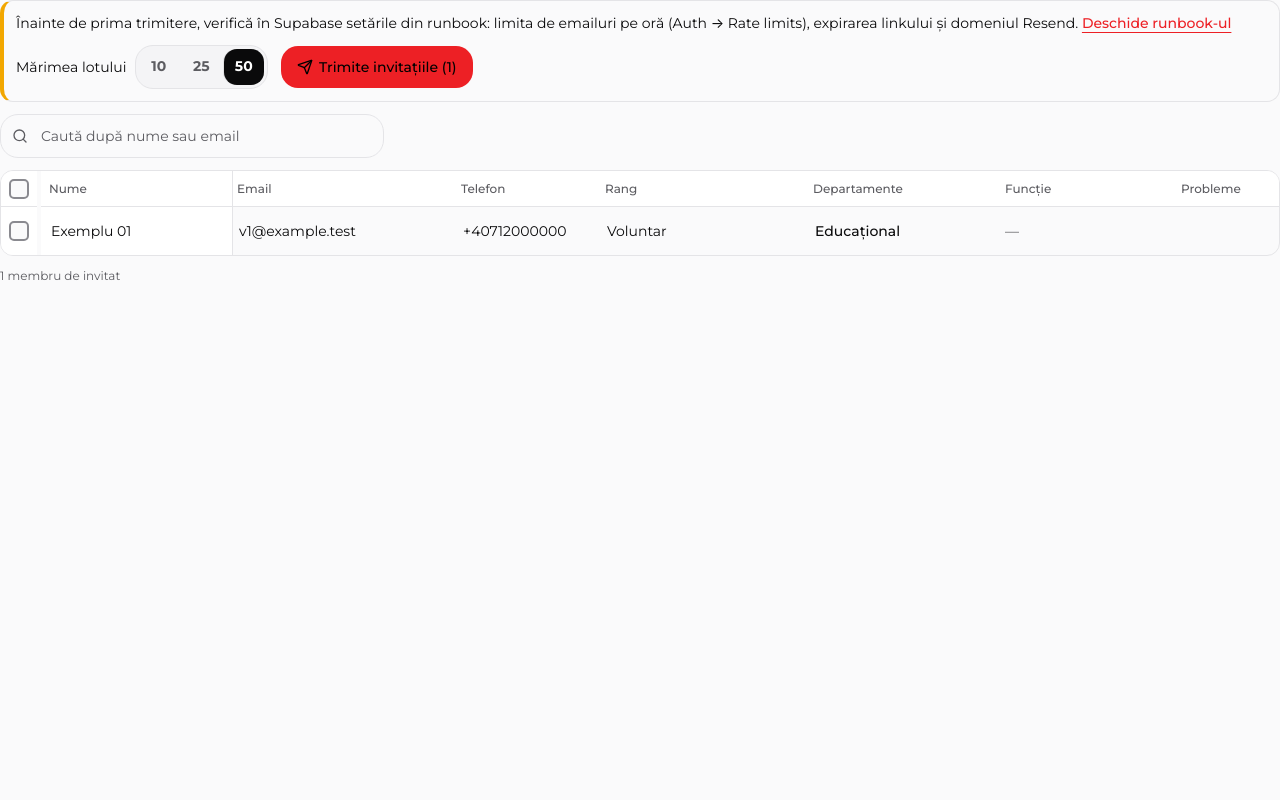
Scenario: inline edits › shows a refused save under the cell, the input still open
Click the button with aria-label "Editează numele pentru Exemplu 01" at x=137, y=231, box [45,211,229,251]
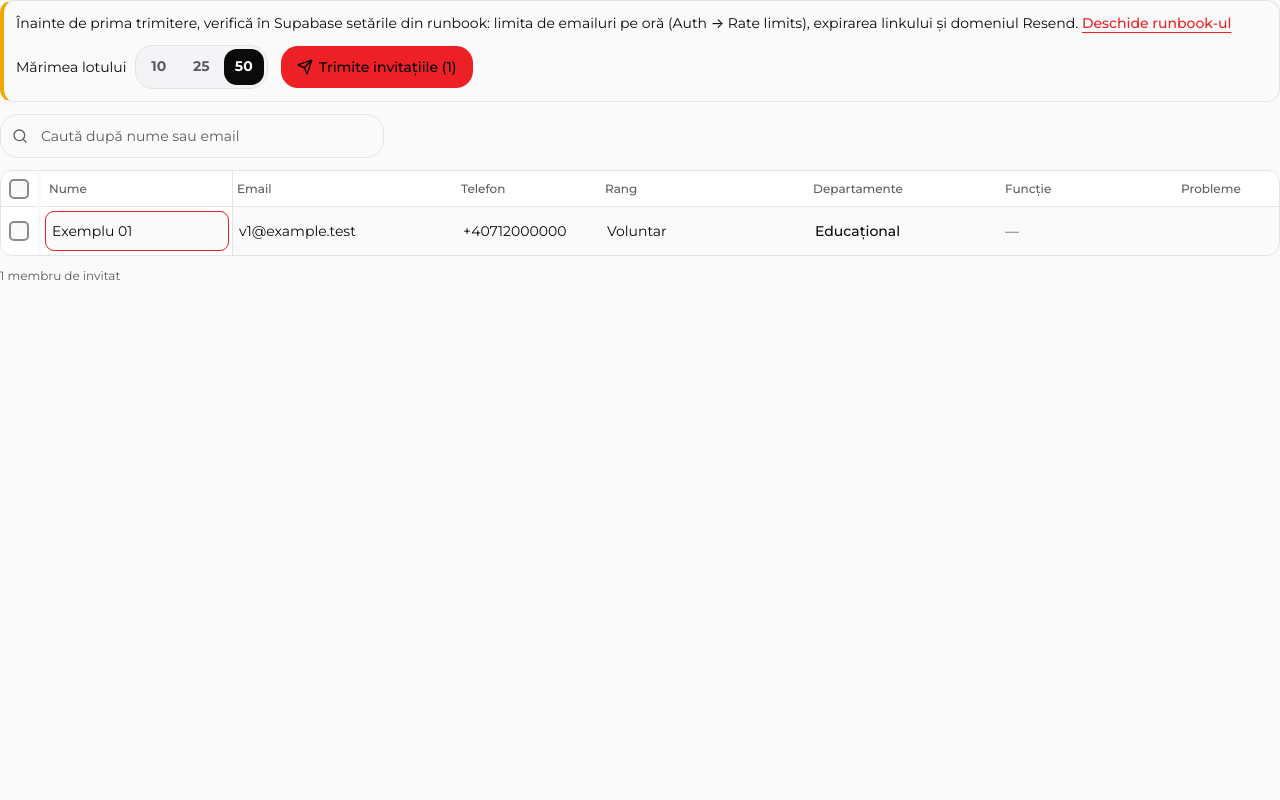
Replace the text in the field named "Numele pentru Exemplu 01" with "Alt Nume" at x=137, y=231, box [45,211,229,251]
Then press Enter
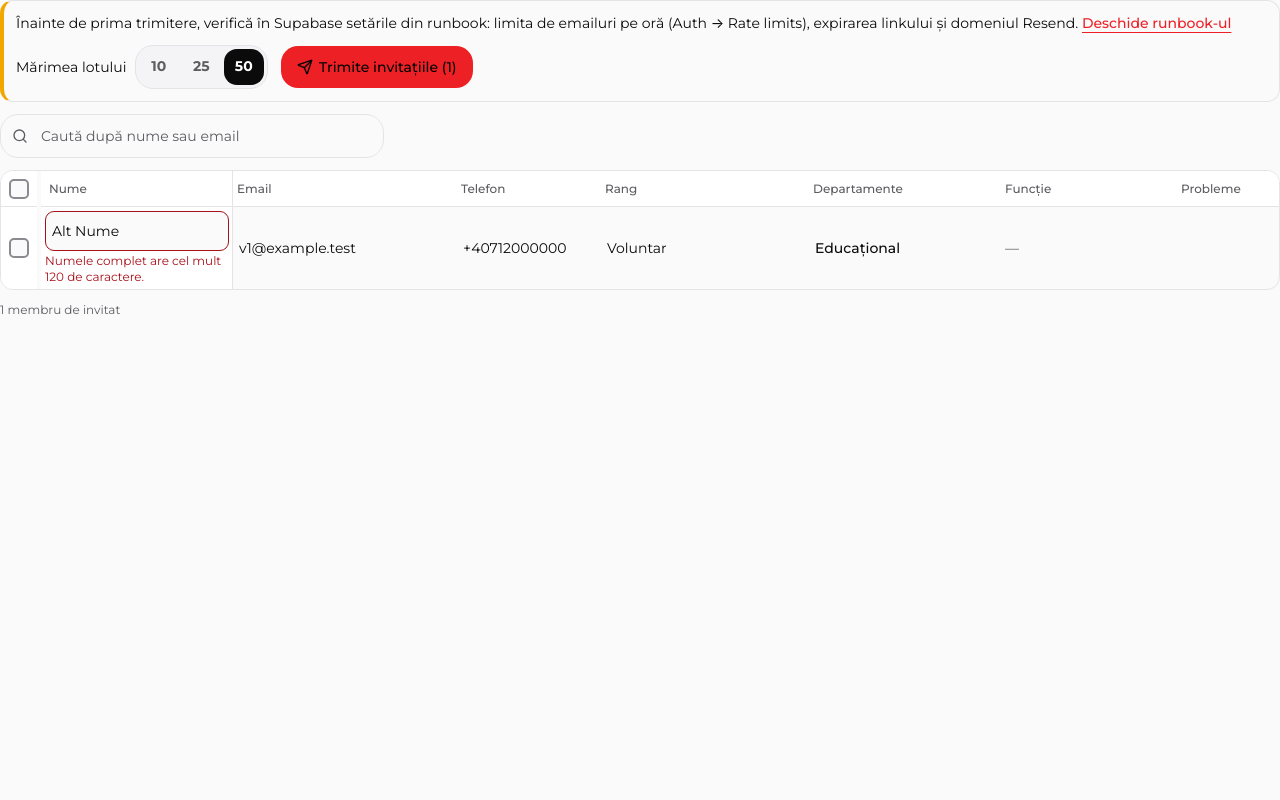
Check: the message "Numele complet are cel mult 120 de caractere." is shown, box [45,253,229,285]
